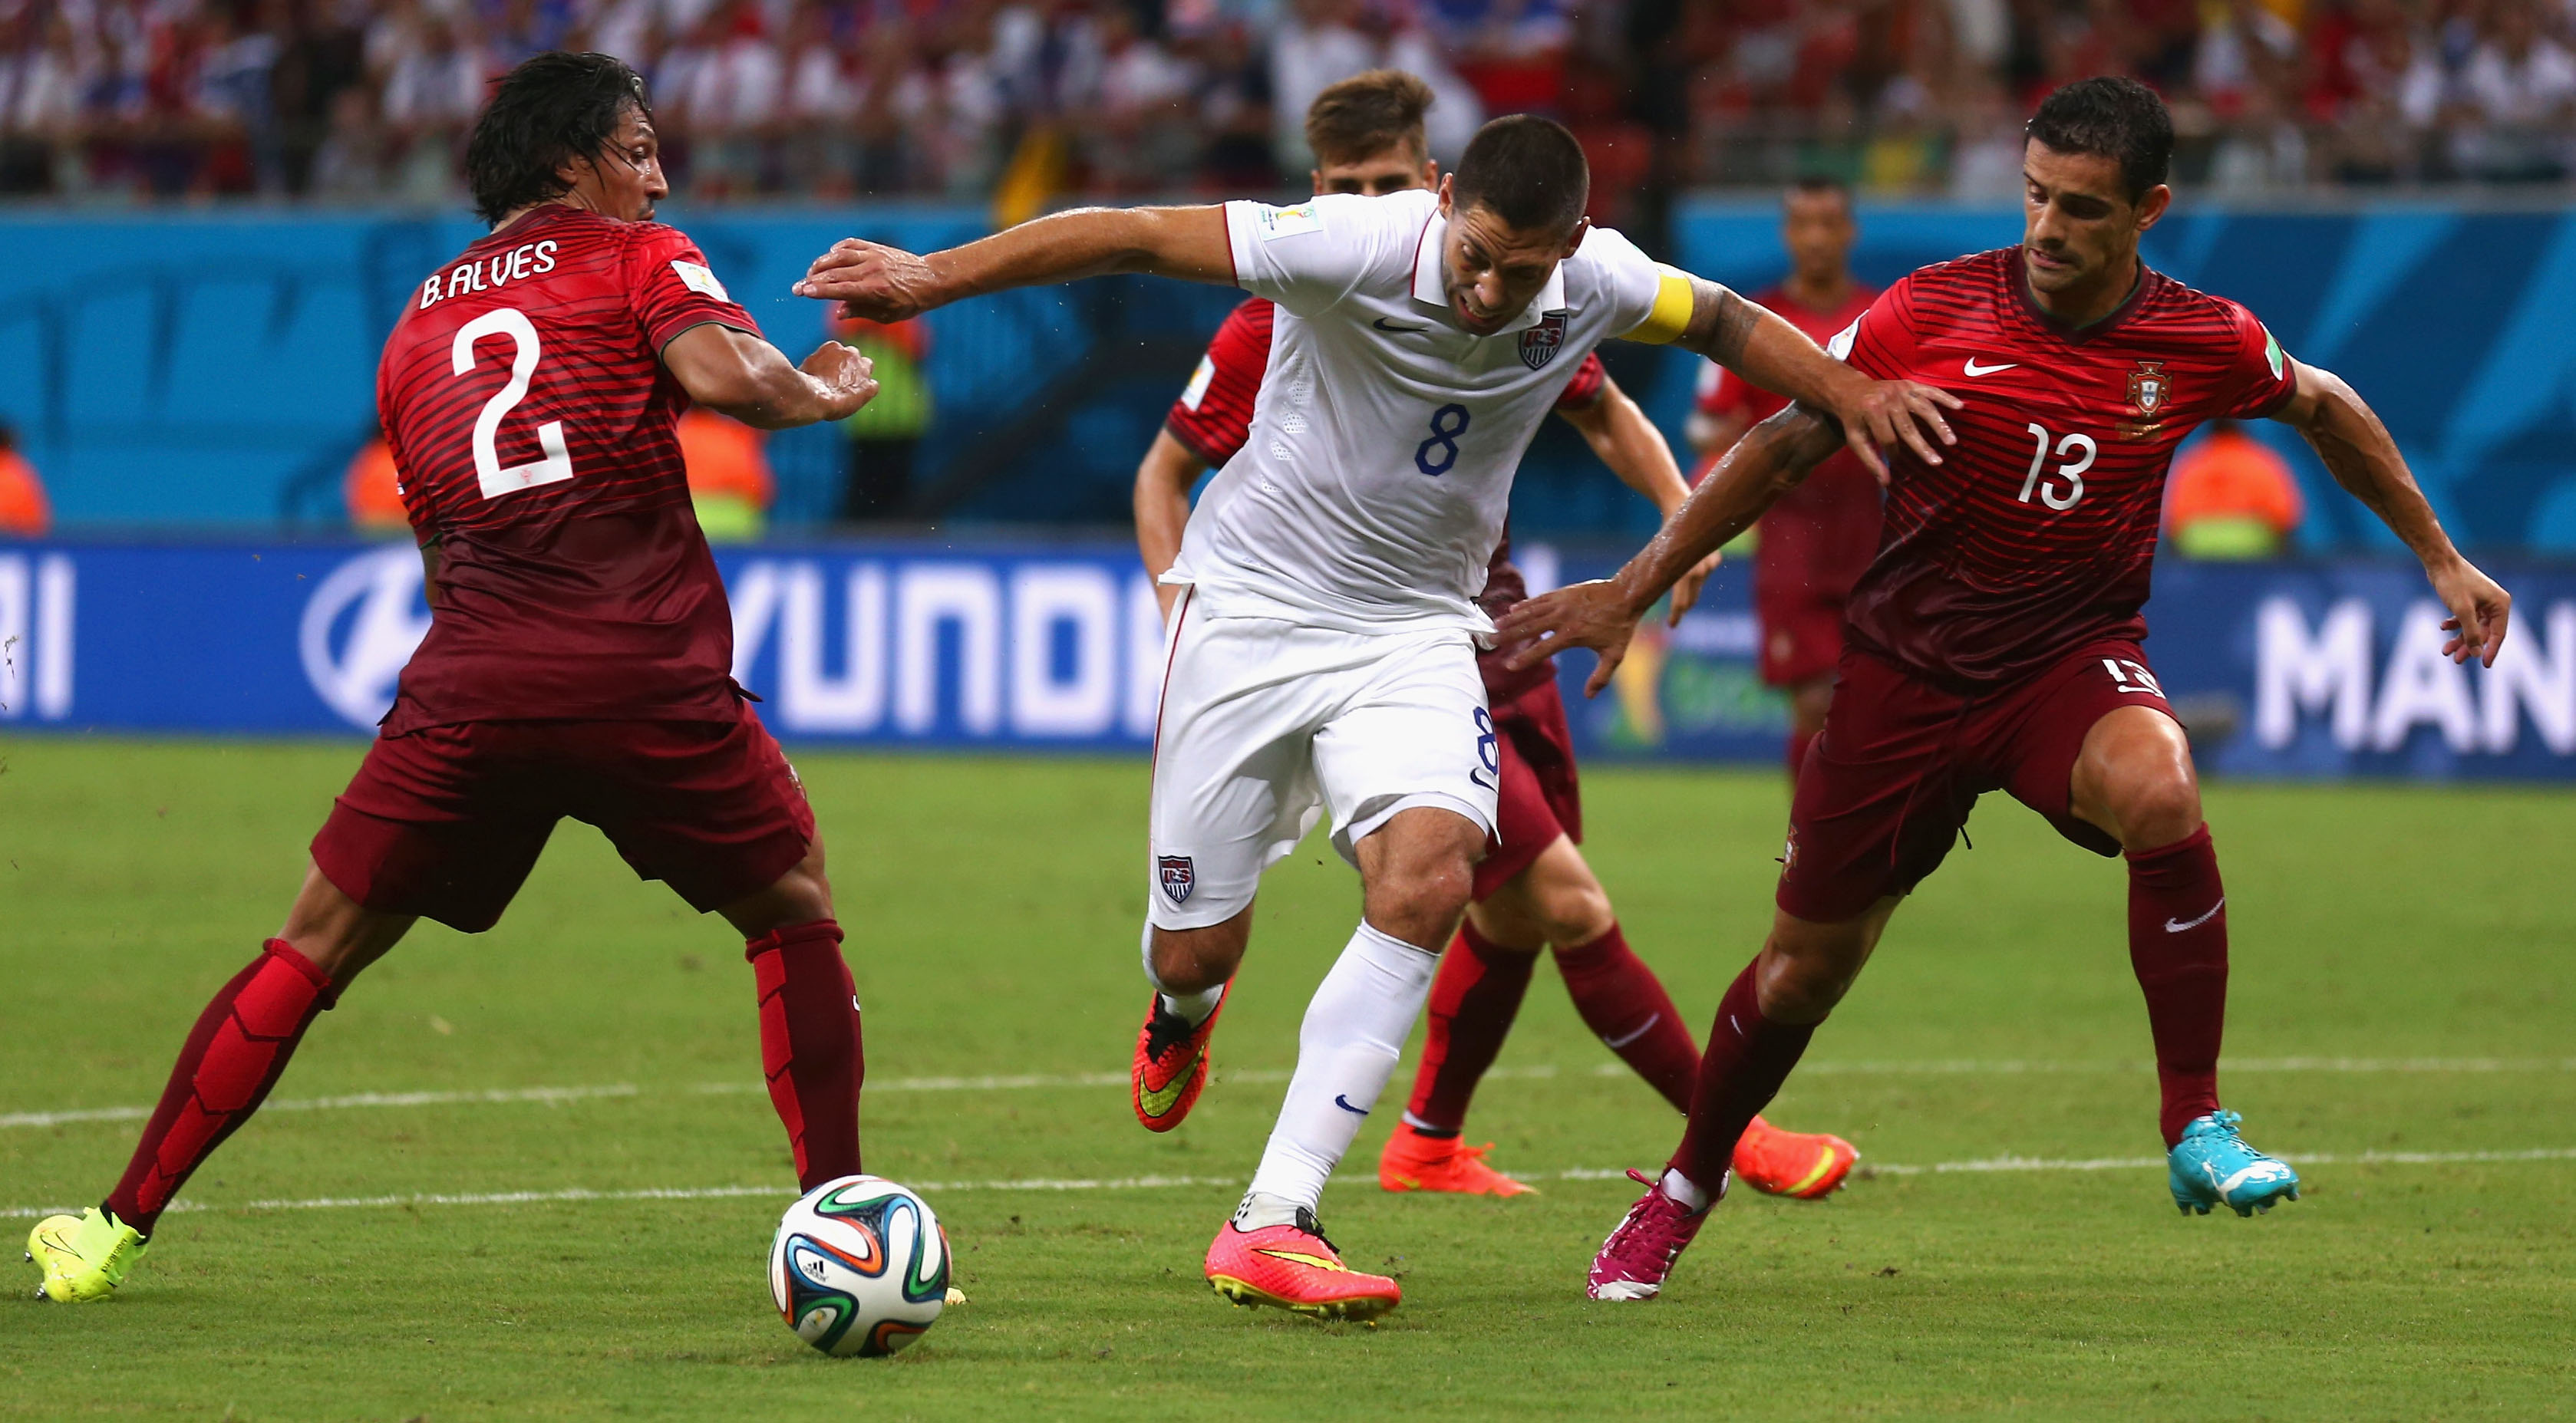soccer player: (22, 51, 875, 1317), (1730, 68, 2393, 1254), (1100, 133, 1615, 1380)
soccerball: (749, 1171, 971, 1377)
